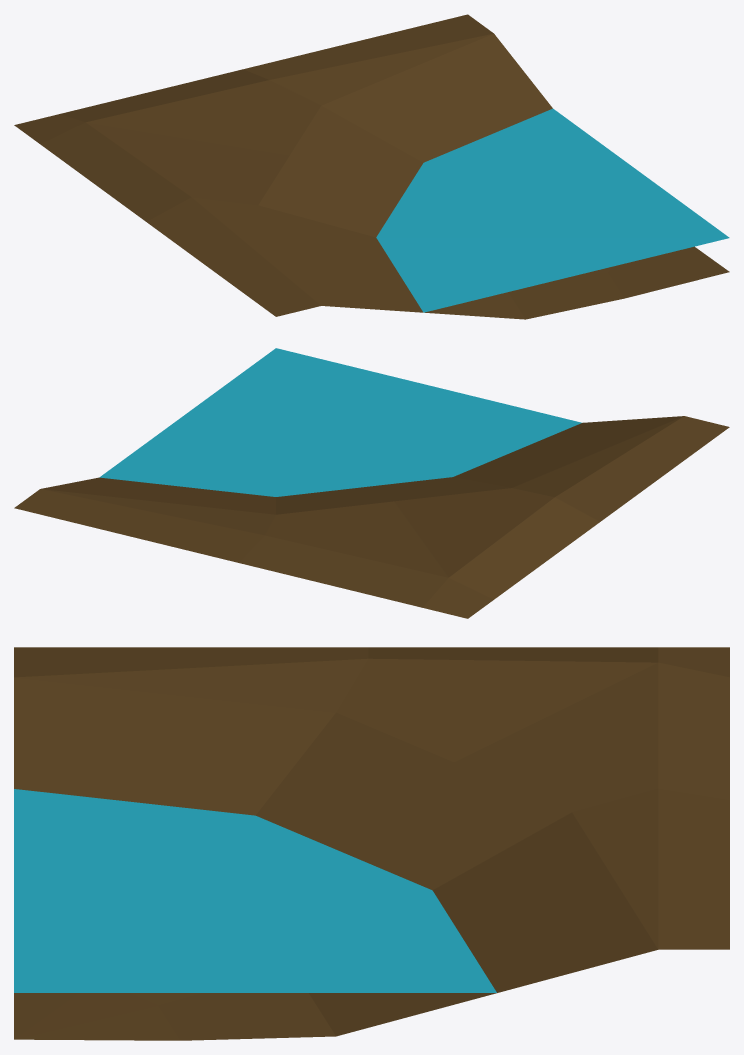
Rendered from Riverbank End Corner.fbx.
3 views of the same model, one above another, from view 1: azimuth 30°, elevation 25°; view 2: azimuth 150°, elevation 25°; view 3: azimuth 270°, elevation 25° (orthographic). The views are drawn at different scales.
Parts seen in each view (by area): view 1: Riverbank End Corner, RB End Water; view 2: Riverbank End Corner, RB End Water; view 3: Riverbank End Corner, RB End Water.
Part boxes in pixels (x1=…): Riverbank End Corner: x1=14, y1=14, x2=729, y2=319; RB End Water: x1=376, y1=108, x2=729, y2=312; Riverbank End Corner: x1=14, y1=416, x2=729, y2=618; RB End Water: x1=99, y1=348, x2=581, y2=496; Riverbank End Corner: x1=14, y1=647, x2=729, y2=1040; RB End Water: x1=14, y1=789, x2=496, y2=992.
Bounding box in the file's own units: 1000 × 169 × 1000.
